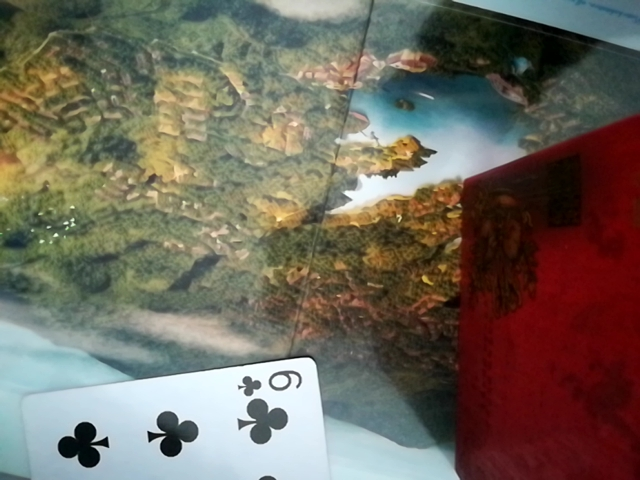mh 6: (3, 355, 334, 480)
